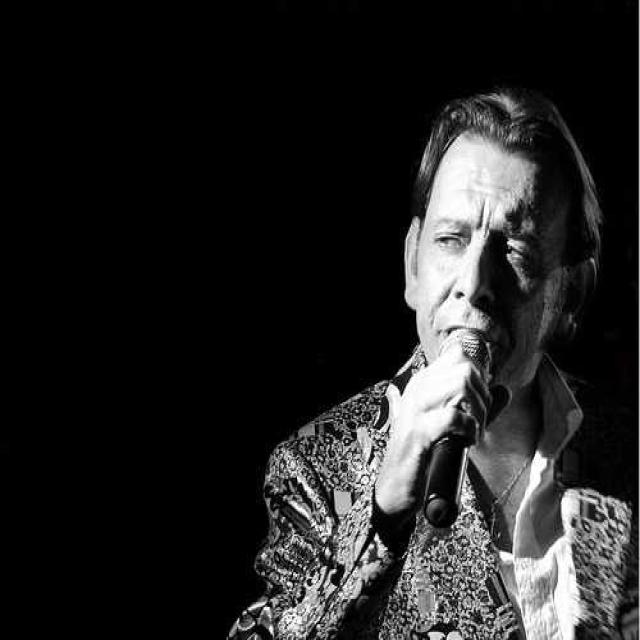microphone: (420, 329, 510, 528)
